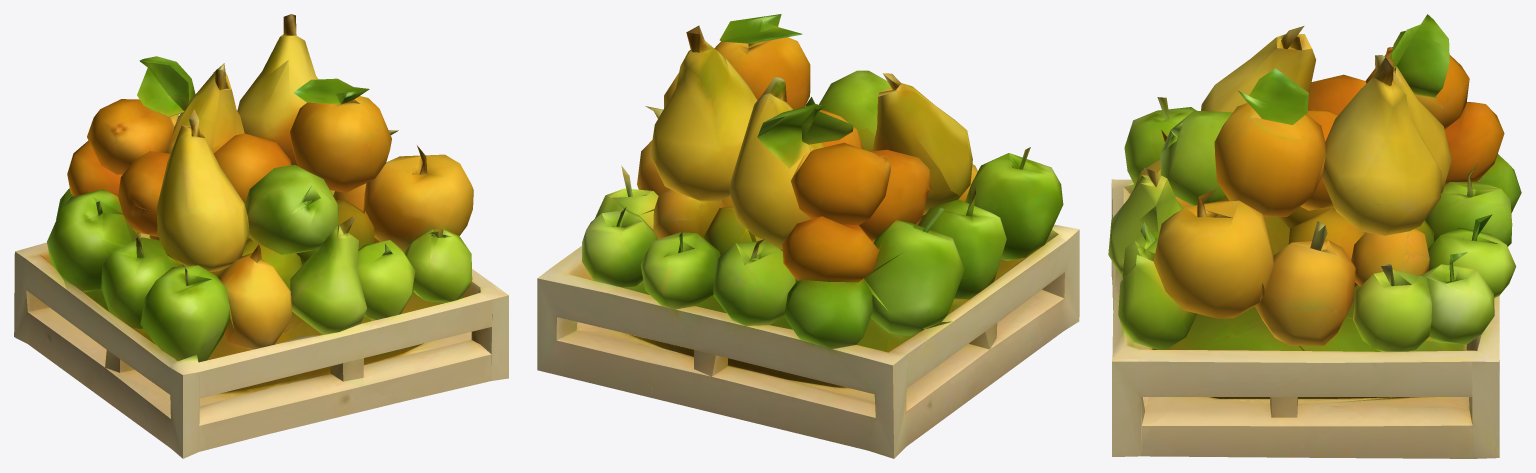
File: fruitStand.glb
3 views of the same model, side by side, from view 1: azimuth 30°, elevation 25°; view 2: azimuth 150°, elevation 25°; view 3: azimuth 270°, elevation 25° (orthographic). The views are drawn at different scales.
Parts seen in each view (by area): view 1: model; view 2: model; view 3: model.
Part boxes in pixels (box(x1,y1,x2,y2)): model: box(14, 14, 508, 458); model: box(537, 14, 1079, 458); model: box(1108, 14, 1521, 458).
Size of the model in its own units: 1.91 by 1.66 by 1.78.
Materials: 1 (1 with a texture image).
